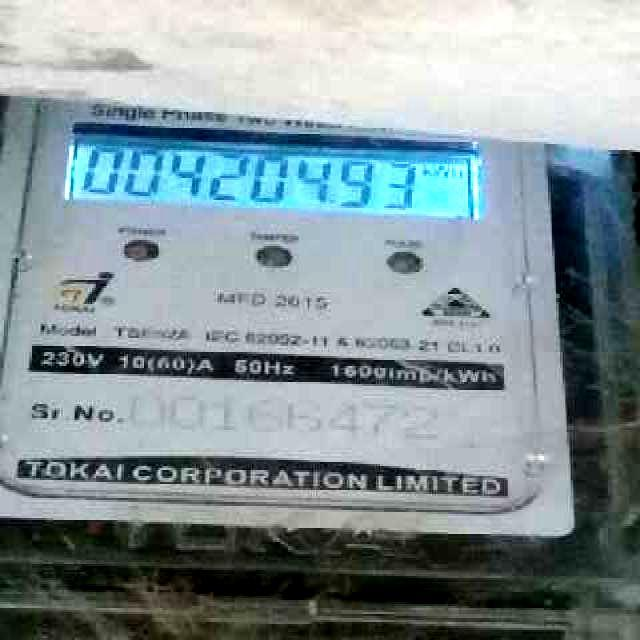LCD: (65, 123, 476, 225)
